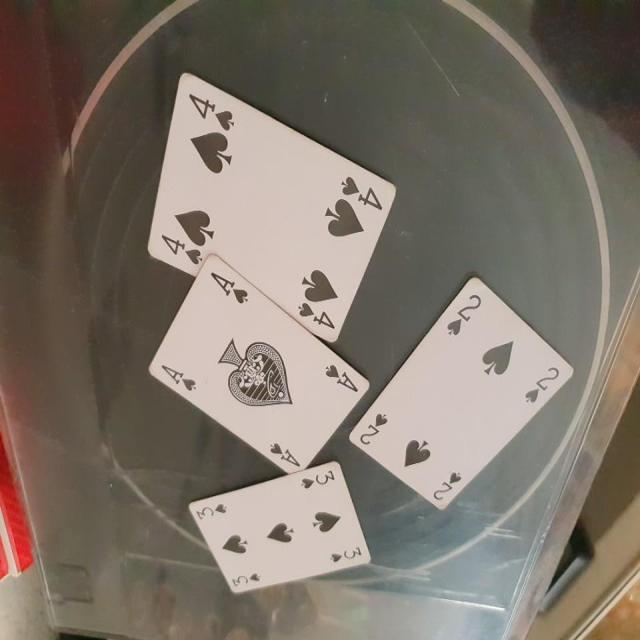2 Spades: (343, 270, 580, 524)
3 Spades: (178, 461, 376, 615)
4 Spades: (144, 60, 400, 356)
A Spades: (123, 266, 379, 484)
